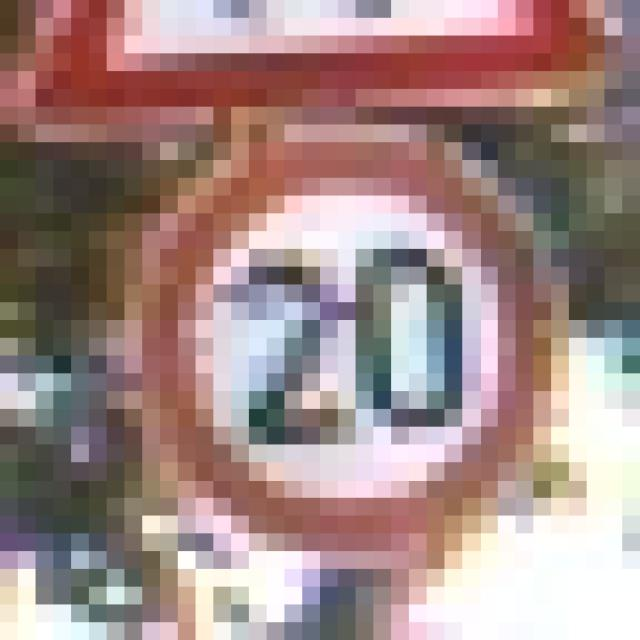Speed Limit -20-: (107, 107, 551, 551)
